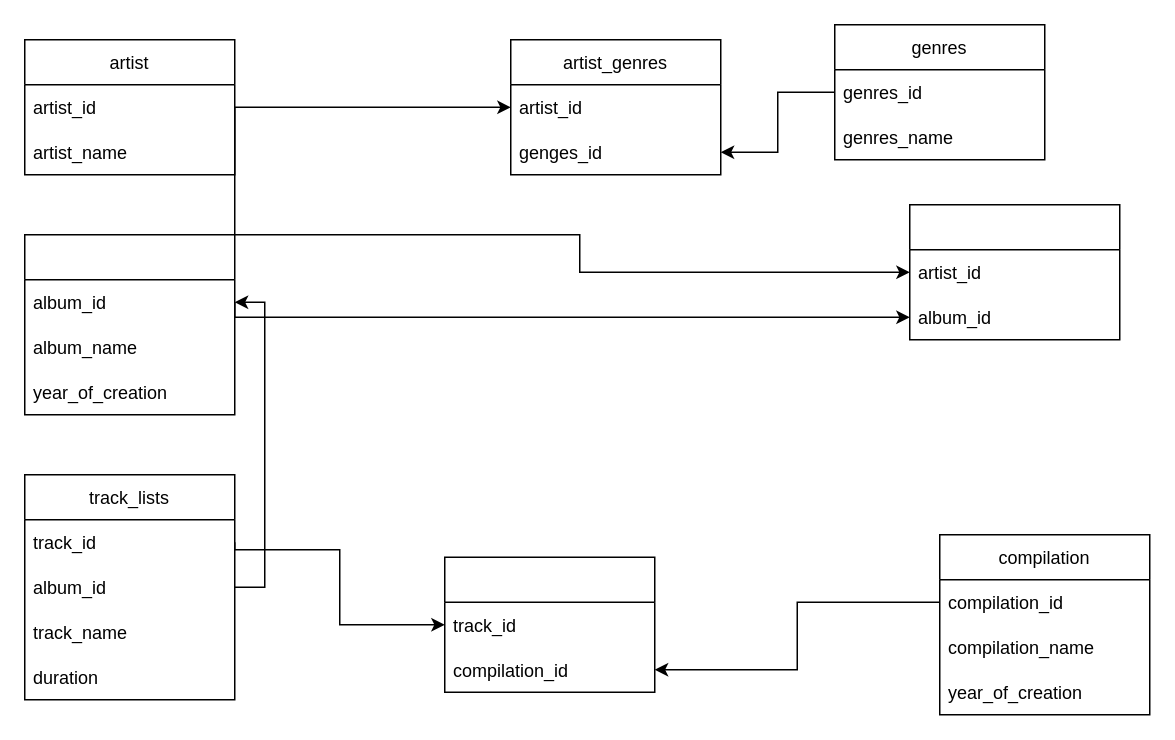
The diagram is 1175 pixels wide and 740 high, and some of its shapes have lost their labels. Here are the shapes that lost their labels. From the top down, the box of each, then its label:
(908, 203, 1120, 340): artist_albums
(23, 233, 235, 415): albums
(443, 556, 655, 692): compilation_tracks
